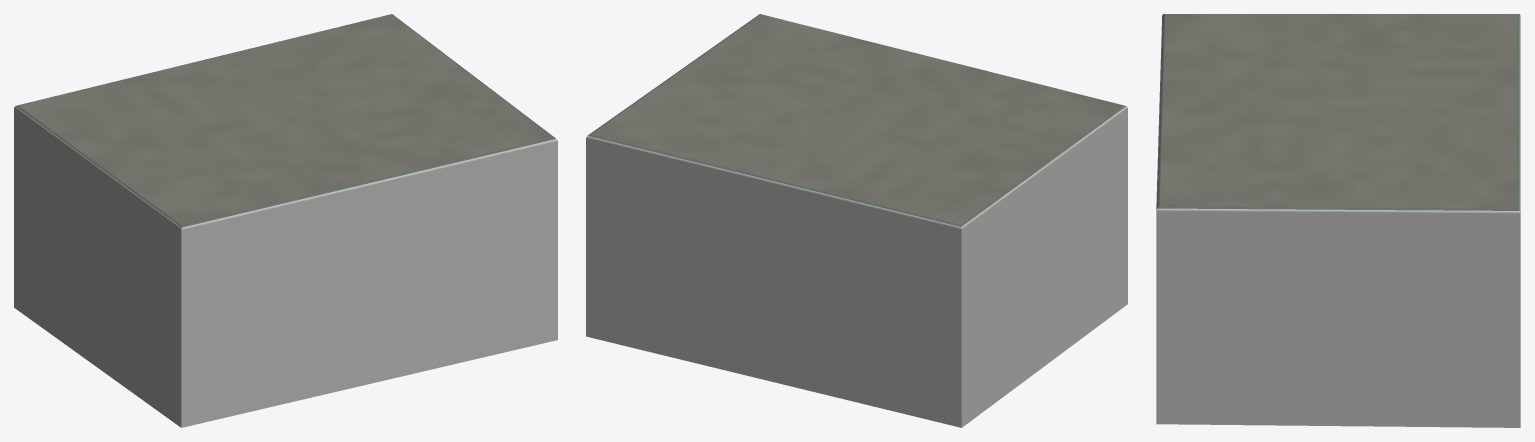
Rendered from intact.glb.
3 views of the same model, side by side, from view 1: azimuth 30°, elevation 25°; view 2: azimuth 150°, elevation 25°; view 3: azimuth 270°, elevation 25° (orthographic). The views are drawn at different scales.
Visible parts, largest first — view 1: SM_store_Intact_00; view 2: SM_store_Intact_00; view 3: SM_store_Intact_00.
Boxes of the visible parts, x1,y1,x2,y2 form: SM_store_Intact_00: (14, 14, 557, 427); SM_store_Intact_00: (586, 14, 1127, 427); SM_store_Intact_00: (1156, 14, 1520, 427).
Size of the model in its own units: 2.2 by 1.13 by 1.71.
3 materials, 1 textured.
